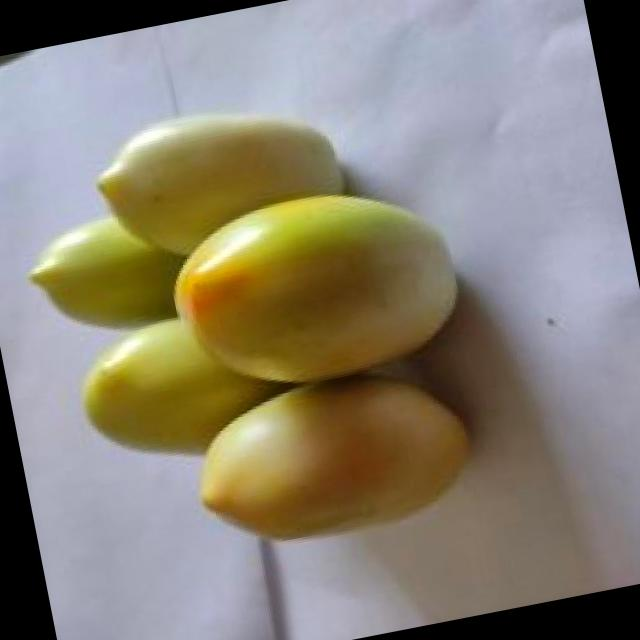tomato: (160, 173, 470, 403), (183, 353, 483, 558), (86, 91, 352, 268), (83, 312, 296, 453), (25, 210, 187, 329)
